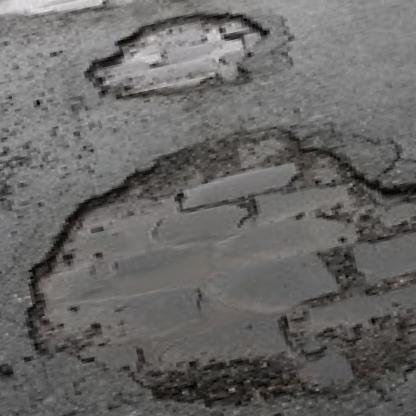pothole: (0, 89, 416, 416), (76, 0, 276, 119), (0, 0, 265, 40)
